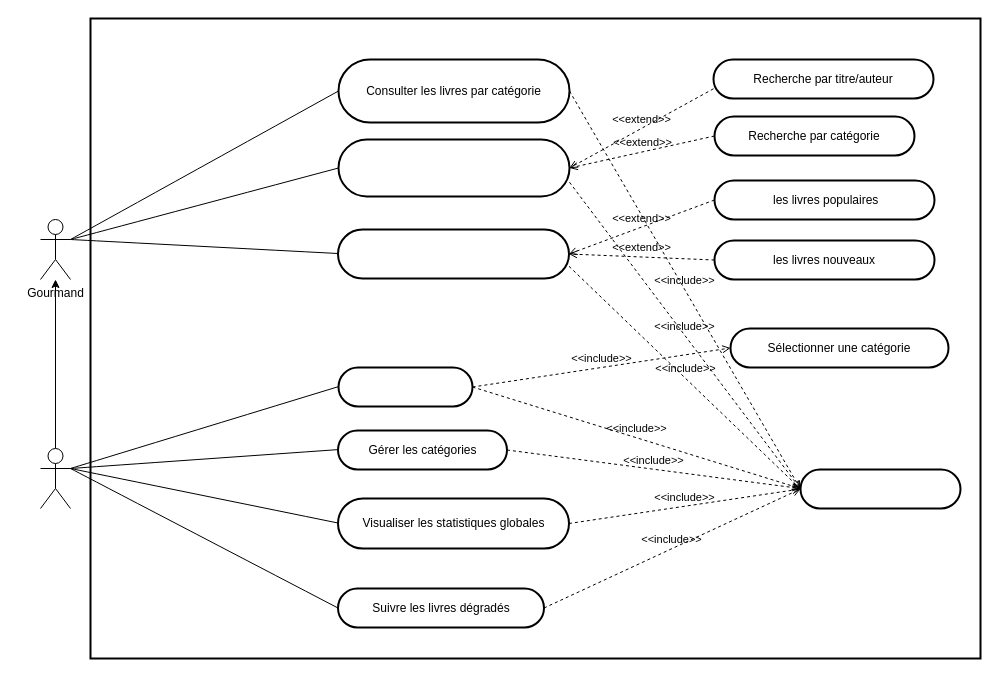
Some shapes in this 999 by 676 pixel diagram are drawn without their labels. The shapes that lost their labels are listed below. From the top down, each one's centre as x and y in pixels, then its label:
At pixel 453 167: "Rechercher un livre spécifique".
At pixel 453 253: "Voir les livres".
At pixel 405 386: "Gérer les livres".
At pixel 55 478: "Administrateur".
At pixel 880 488: "Authentification".
